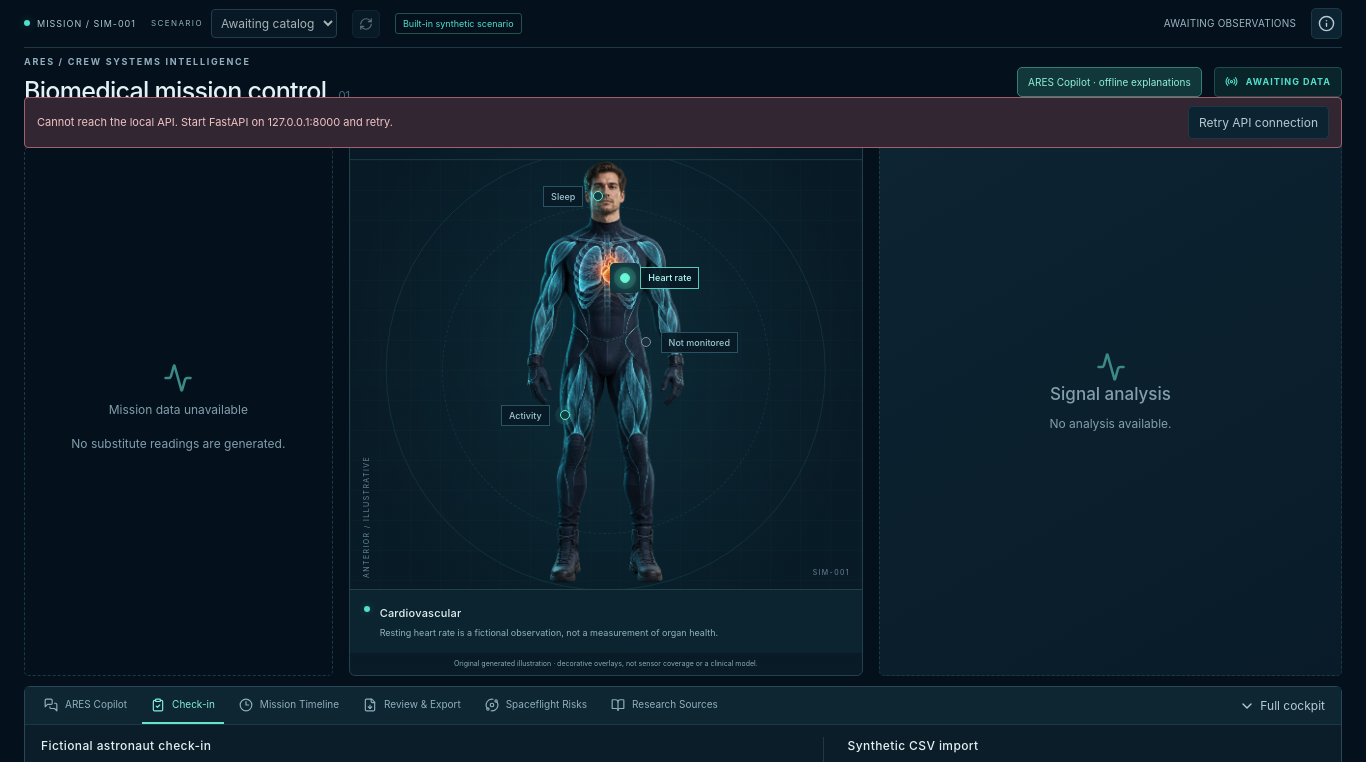
Test: can retry a failed API connection
The image size is (1366, 762).
Expected: the 1st message shows "Cannot reach the local API", [37,115,393,129]
Step 1. Click the button "Retry API connection" → (1258, 123), box [1188,106,1329,139]
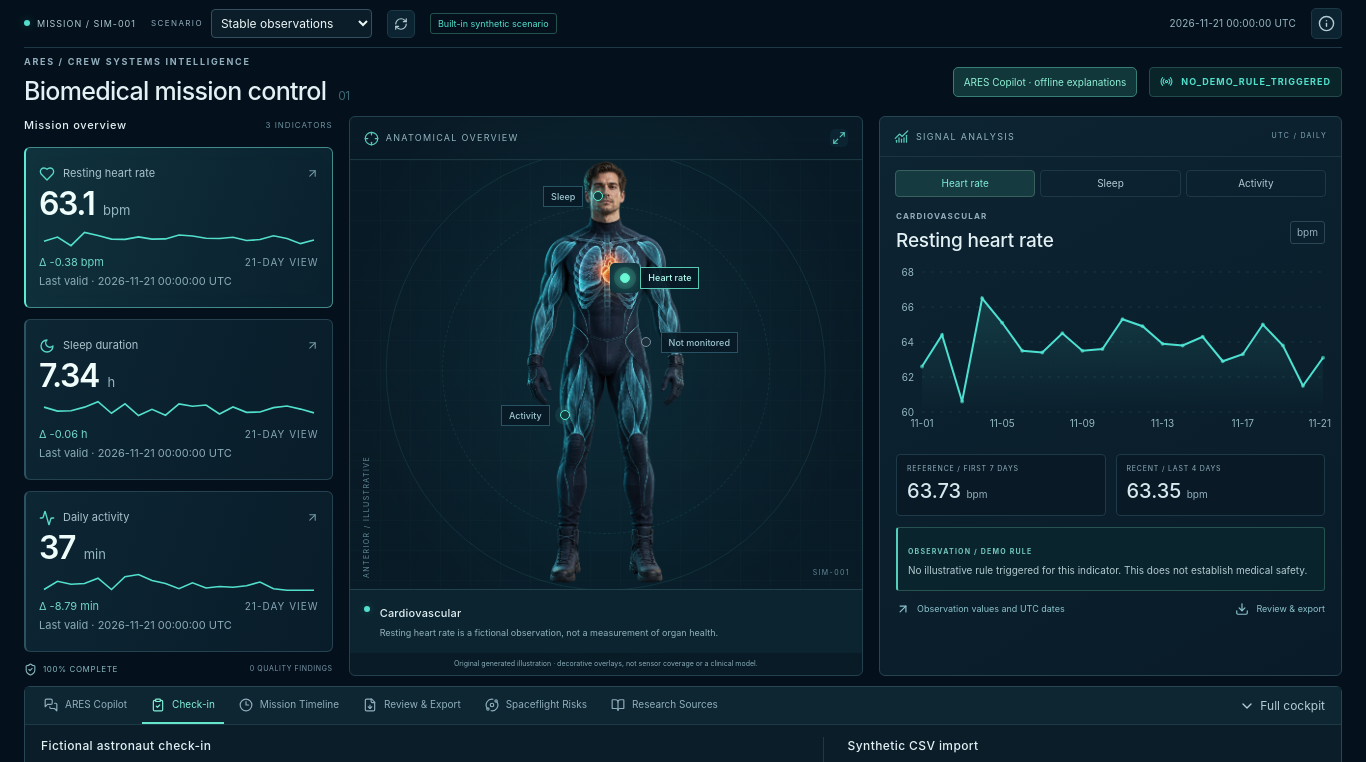
Now the heading "Mission overview" is shown, box [24,118,127,134]
